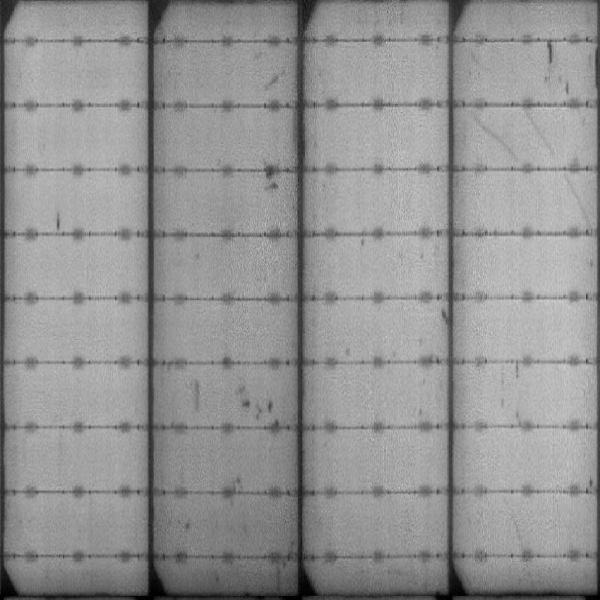scratch: (464, 113, 516, 163), (526, 110, 575, 162), (560, 176, 593, 230), (235, 394, 285, 421), (540, 39, 564, 76), (189, 377, 209, 418)
